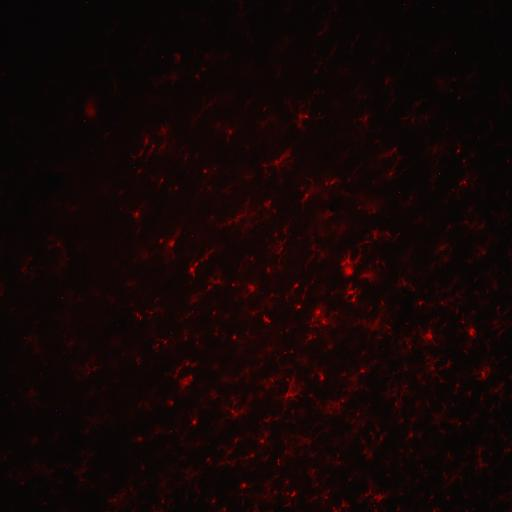microglia: (213, 196, 259, 242), (309, 204, 347, 245), (284, 96, 322, 136), (182, 94, 220, 130), (358, 302, 391, 343), (120, 198, 152, 237), (157, 222, 184, 268), (342, 402, 372, 442), (427, 237, 457, 276), (20, 319, 46, 363), (354, 188, 392, 218), (41, 236, 70, 275), (399, 96, 432, 130), (103, 478, 136, 511), (232, 275, 266, 307), (218, 395, 250, 428), (152, 473, 179, 512), (454, 206, 491, 234), (184, 246, 215, 279), (296, 173, 320, 215), (310, 42, 338, 78), (275, 376, 304, 410), (72, 446, 96, 486), (262, 146, 292, 177), (19, 379, 46, 413), (396, 324, 420, 361), (254, 98, 278, 135), (311, 391, 345, 417), (491, 299, 512, 341), (265, 230, 292, 262), (161, 356, 202, 377), (363, 224, 405, 244), (430, 71, 460, 99), (14, 244, 38, 278), (215, 118, 243, 147), (422, 137, 450, 166), (152, 67, 184, 92), (388, 380, 410, 416), (79, 354, 105, 384), (467, 240, 496, 266), (232, 248, 261, 274), (337, 248, 362, 278), (220, 364, 254, 386), (381, 70, 398, 114), (375, 162, 406, 186), (303, 244, 329, 272), (129, 130, 152, 161), (260, 193, 282, 225), (117, 272, 144, 298), (200, 270, 229, 294), (82, 91, 103, 124), (173, 371, 199, 397), (340, 370, 364, 398), (424, 352, 442, 388), (293, 426, 316, 454), (346, 28, 366, 60), (429, 402, 451, 431), (308, 304, 332, 330), (439, 465, 465, 489), (60, 327, 80, 358), (280, 480, 302, 508), (473, 360, 495, 387), (257, 370, 278, 398), (376, 138, 400, 162), (181, 288, 207, 310), (488, 377, 510, 402), (359, 264, 379, 290), (499, 424, 512, 464), (306, 460, 322, 492), (238, 447, 259, 471), (144, 298, 162, 325), (201, 382, 219, 409), (357, 475, 375, 502), (129, 428, 151, 450), (323, 169, 343, 193), (212, 322, 232, 346), (449, 411, 470, 433), (373, 422, 390, 449), (311, 19, 335, 38), (475, 446, 493, 471), (358, 440, 376, 465), (338, 281, 360, 301), (402, 426, 424, 446), (253, 428, 274, 448), (128, 307, 148, 328), (436, 294, 457, 314), (463, 321, 482, 343), (325, 447, 341, 473), (286, 275, 304, 298), (128, 349, 146, 372), (148, 173, 168, 193), (259, 308, 277, 330), (228, 327, 246, 349), (144, 140, 158, 168), (234, 476, 252, 497), (126, 163, 147, 181), (216, 441, 238, 458), (318, 483, 332, 509), (346, 290, 364, 310), (415, 294, 433, 314), (185, 406, 202, 427), (355, 112, 371, 134), (422, 324, 438, 346), (215, 456, 237, 472), (394, 270, 410, 292), (437, 354, 455, 373), (277, 343, 297, 360), (312, 365, 328, 386), (450, 138, 466, 159), (449, 377, 464, 399), (271, 454, 288, 473), (178, 325, 192, 347), (332, 497, 352, 512), (301, 330, 322, 344), (324, 338, 340, 356), (167, 179, 182, 196), (458, 174, 472, 192), (155, 124, 169, 142), (172, 46, 182, 69), (191, 70, 203, 87), (292, 298, 306, 312), (210, 305, 221, 322), (228, 434, 241, 448), (158, 336, 170, 350), (372, 492, 383, 503), (360, 368, 368, 375), (371, 500, 376, 510), (166, 400, 174, 406), (266, 267, 270, 272), (203, 169, 207, 173)
